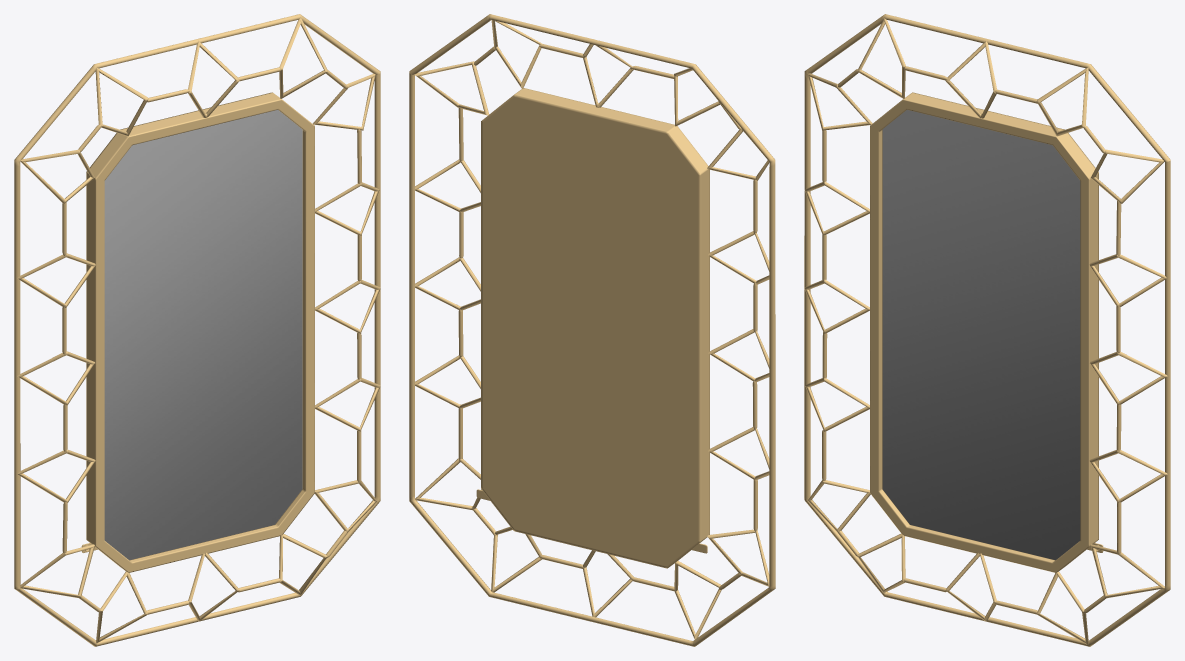
File: mirror_B073WHB42L.glb
The picture shows the model from 3 angles, left to right: view 1: azimuth 30°, elevation 25°; view 2: azimuth 150°, elevation 25°; view 3: azimuth 330°, elevation 25°; orthographic projection.
Visible parts, largest first — view 1: RootNode; view 2: RootNode; view 3: RootNode.
Part boxes in pixels (x1,y1,x2,y2): RootNode: (14,14,380,646); RootNode: (409,14,775,646); RootNode: (804,14,1170,646).
Size of the model in its own units: 0.5722 by 0.8699 by 0.051.
Materials: 1 (1 with a texture image).
